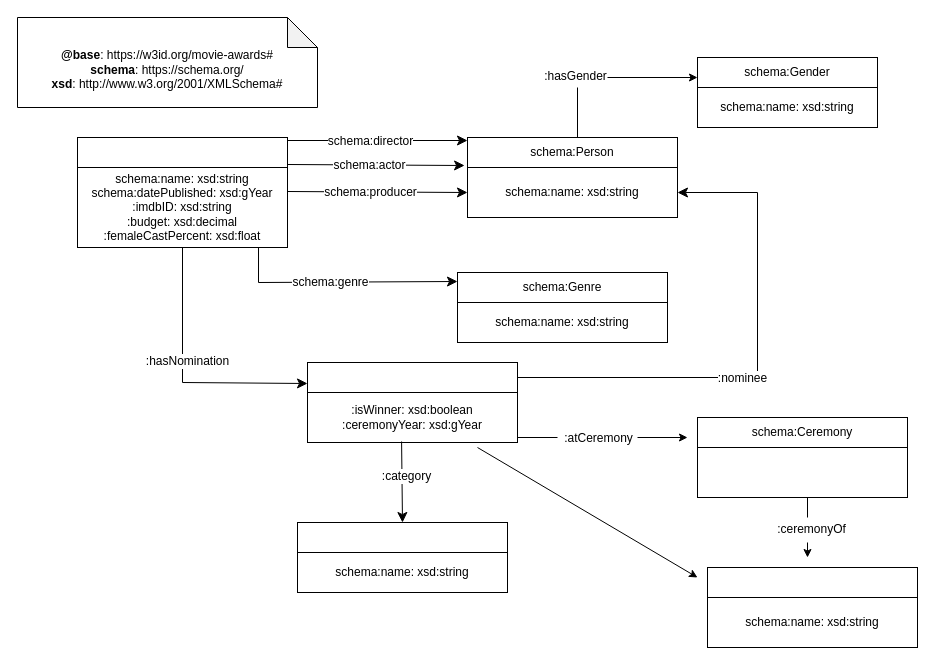
This 935x665 diagram has some shape labels left out. The centre of each missing label's shape, as x and y in pixels:
":AwardCategory" goes at point 402,537.
":AwardNomination" goes at point 412,377.
"schema:Award" goes at point 812,582.
"schema:Movie" goes at point 182,152.
"schema:name: xsd:string schema:date: xsd:date" goes at point 802,472.
